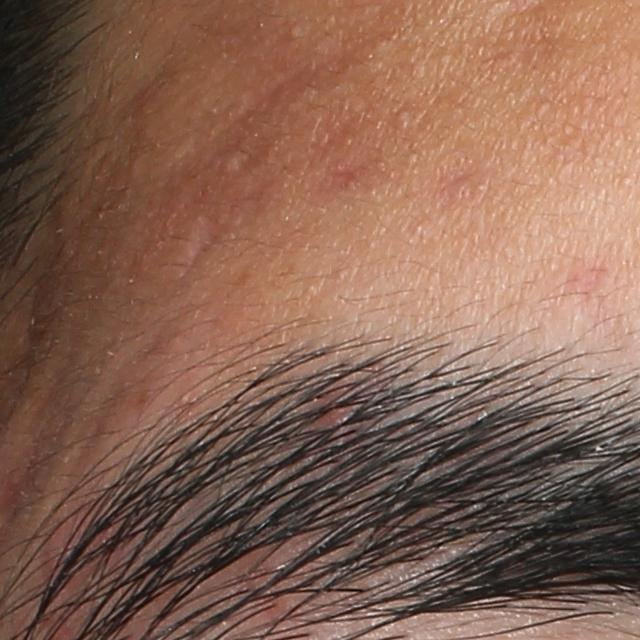comedo: (222, 152, 244, 173), (287, 19, 305, 40), (394, 108, 411, 122)
